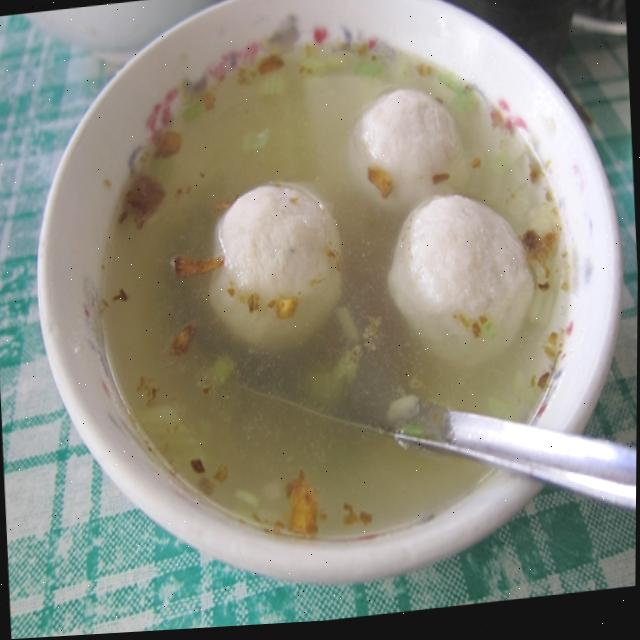熟制海鲜: (180, 81, 551, 444)
